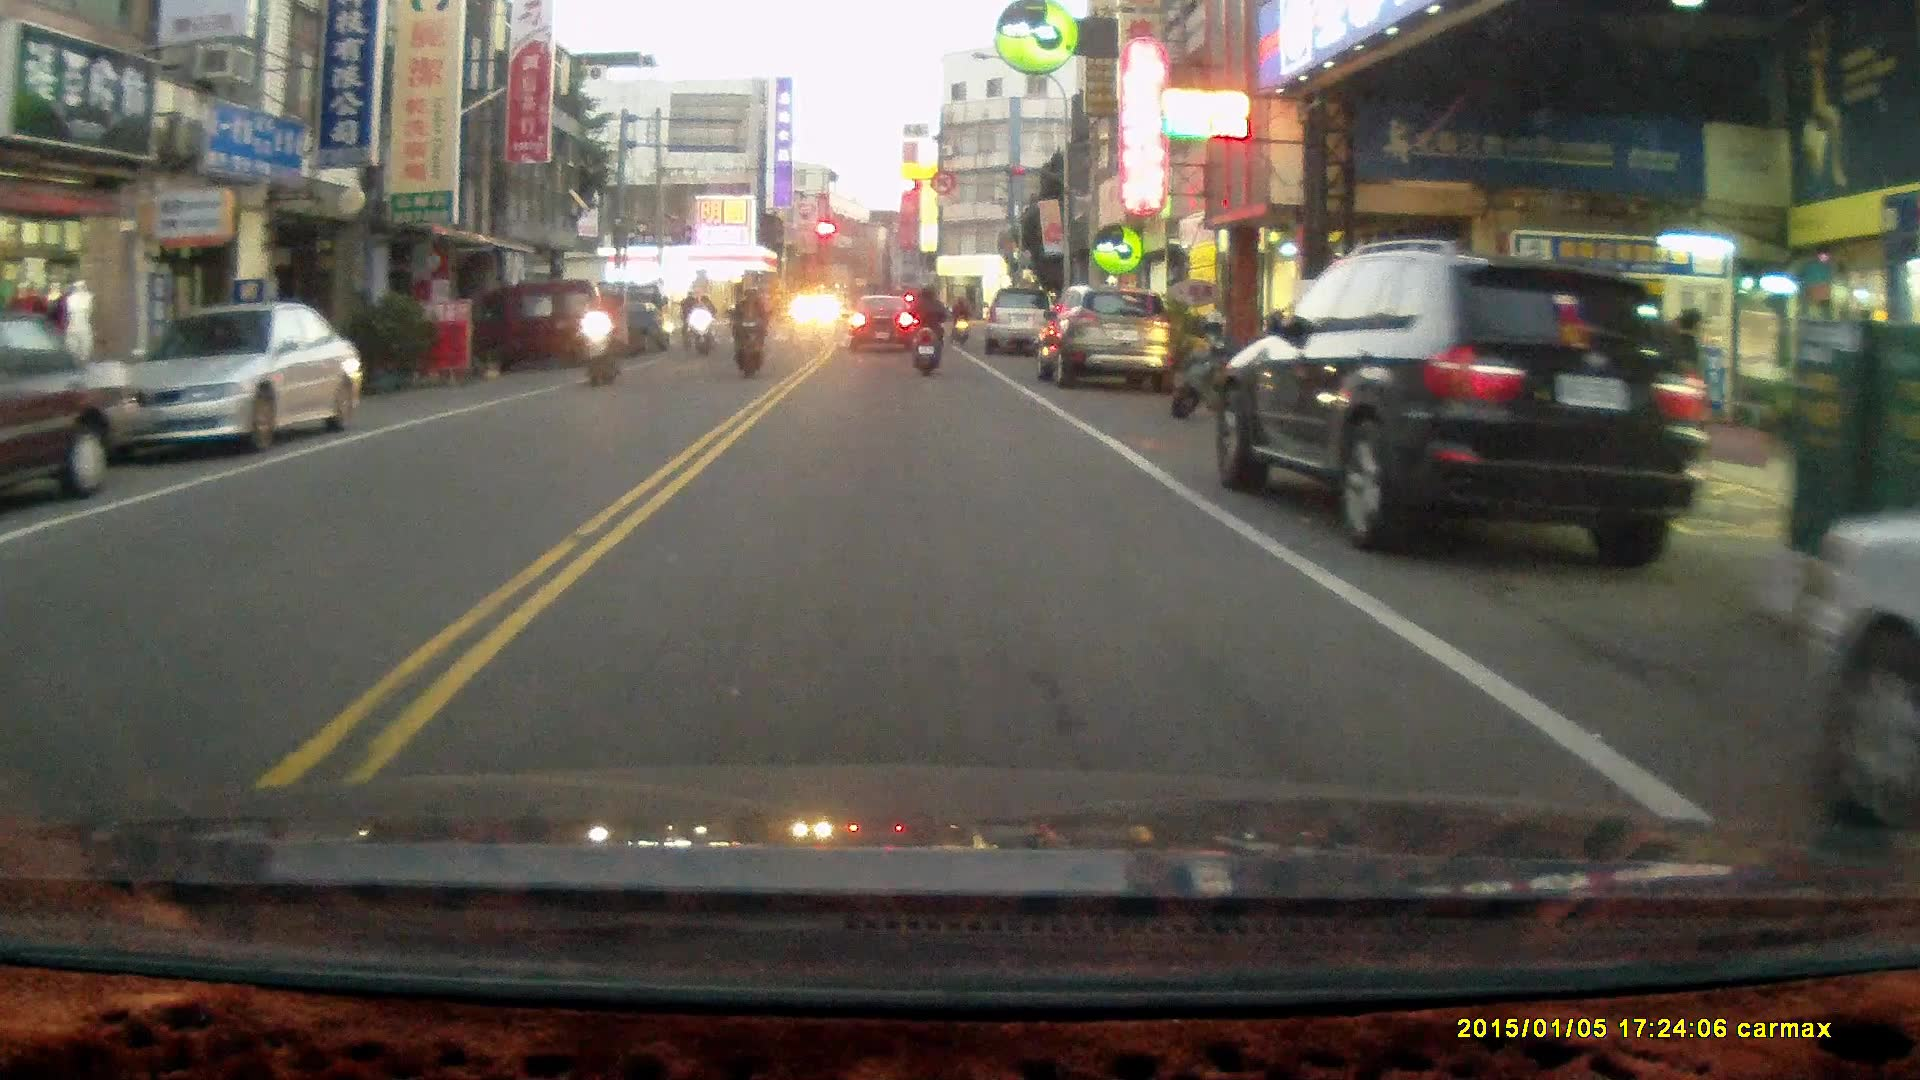rider: (581, 278, 623, 383), (907, 281, 947, 378), (726, 284, 765, 380), (689, 292, 716, 359), (948, 294, 969, 345)
vehicle: (1214, 246, 1704, 572), (85, 300, 374, 458), (1798, 517, 1920, 825), (3, 311, 144, 514), (1036, 287, 1173, 393), (502, 279, 621, 369), (984, 289, 1066, 363)
